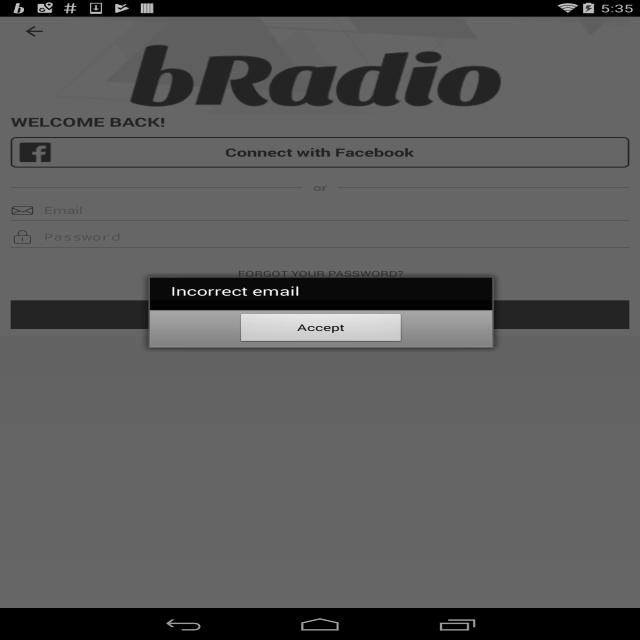Button: (5, 130, 632, 172), (234, 308, 414, 347)
CheckedTextView: (6, 232, 617, 258)
EditText: (8, 200, 620, 227)
ImageView: (132, 47, 498, 110)
RadioButton: (18, 23, 58, 47)
TextView: (167, 286, 318, 298)
